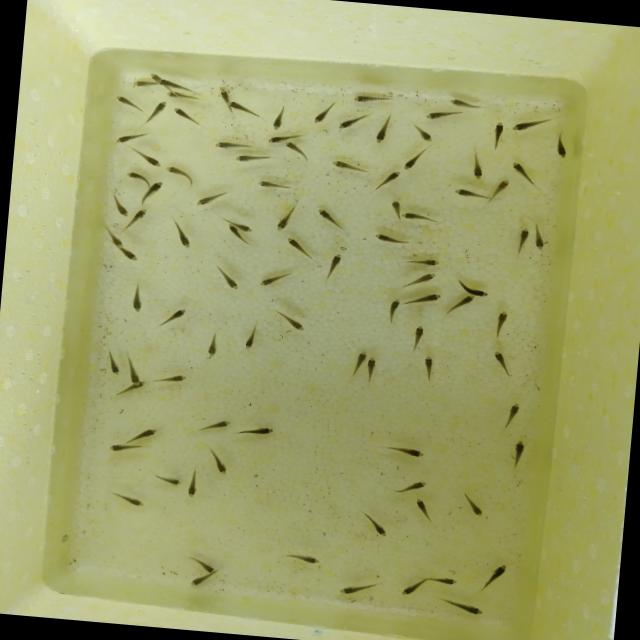fingerling: (471, 560, 509, 598), (336, 574, 386, 600), (434, 594, 486, 618), (356, 507, 393, 540), (386, 474, 434, 498), (272, 305, 310, 333), (167, 216, 196, 252), (282, 234, 318, 262), (271, 200, 301, 233), (400, 144, 432, 174), (120, 422, 159, 446), (313, 207, 350, 232), (190, 188, 232, 210), (399, 269, 439, 292), (508, 160, 542, 187), (400, 291, 443, 312), (509, 113, 550, 135), (391, 254, 447, 270), (444, 292, 478, 318), (126, 145, 164, 168), (192, 416, 232, 437), (114, 126, 152, 148), (282, 549, 326, 568), (205, 444, 231, 476), (381, 442, 427, 460), (488, 306, 512, 340), (485, 116, 509, 150), (454, 275, 491, 297), (132, 179, 162, 206), (490, 347, 515, 379), (281, 140, 315, 163), (501, 396, 524, 430), (108, 489, 147, 509), (170, 106, 205, 128), (320, 252, 344, 284), (231, 422, 276, 439), (327, 156, 369, 174), (410, 496, 437, 524), (121, 349, 142, 385), (212, 264, 241, 290), (257, 269, 292, 290), (488, 177, 513, 206), (159, 305, 189, 329), (372, 112, 392, 148), (202, 327, 222, 363), (508, 438, 528, 474), (162, 163, 196, 184), (187, 570, 219, 592), (460, 491, 486, 518), (145, 470, 184, 488), (242, 319, 262, 353), (112, 94, 146, 114), (150, 369, 190, 386), (126, 206, 150, 234), (550, 128, 570, 160), (350, 91, 392, 106), (408, 322, 426, 357), (336, 111, 366, 132), (144, 98, 168, 124), (109, 440, 148, 456), (449, 185, 488, 201), (372, 170, 400, 192), (231, 152, 275, 166), (224, 99, 260, 116), (467, 150, 486, 182), (162, 89, 205, 103), (382, 296, 402, 326), (309, 101, 333, 126), (110, 382, 140, 402), (180, 555, 217, 571), (129, 282, 146, 316), (350, 348, 367, 382), (101, 224, 124, 249), (108, 192, 130, 218), (400, 210, 440, 224), (270, 102, 290, 130), (397, 578, 425, 598), (99, 351, 122, 375), (446, 96, 485, 110), (422, 109, 463, 122), (420, 352, 437, 383), (530, 222, 547, 252), (408, 123, 434, 142), (372, 231, 410, 244), (255, 180, 296, 192), (427, 574, 462, 588), (186, 466, 201, 498), (212, 140, 252, 152), (153, 77, 191, 89), (364, 356, 379, 383), (516, 226, 530, 254), (126, 171, 155, 183), (387, 198, 402, 221), (264, 132, 286, 146), (121, 248, 142, 262), (132, 78, 152, 90), (216, 87, 232, 101), (238, 223, 256, 233)
